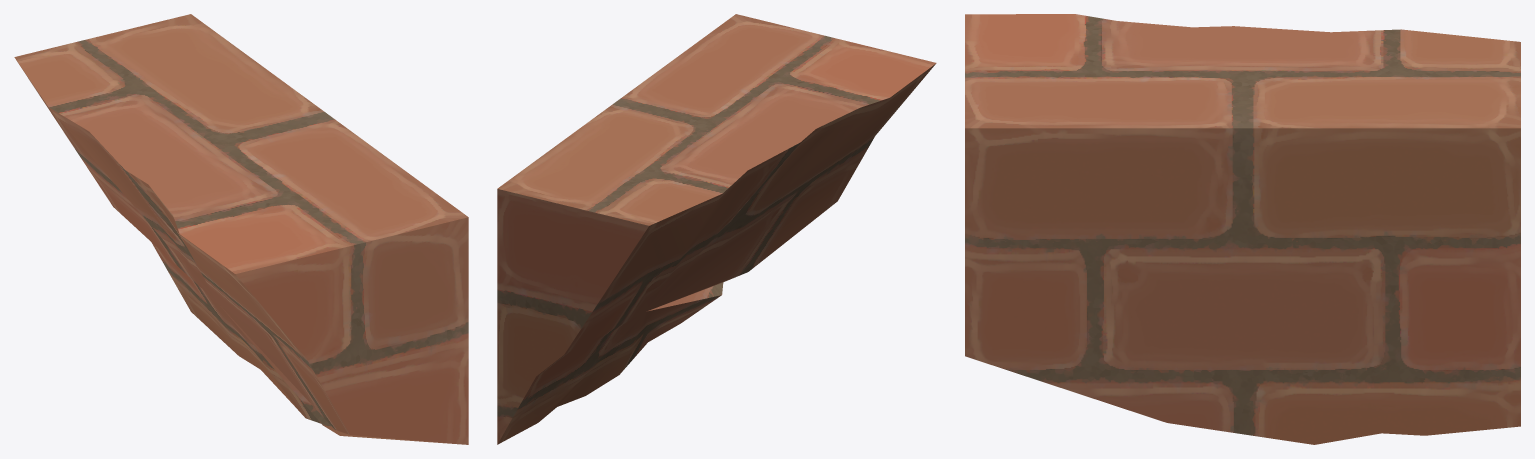
File: gib6.fbx
3 renders of one model, left to right at view 1: azimuth 30°, elevation 25°; view 2: azimuth 150°, elevation 25°; view 3: azimuth 270°, elevation 25°, orthographic. The views are drawn at different scales.
Parts seen in each view (by area): view 1: gib6; view 2: gib6; view 3: gib6.
Part boxes in pixels (x1,y1,x2,y2): gib6: (14, 14, 468, 444); gib6: (497, 14, 936, 444); gib6: (965, 14, 1520, 444).
Bounding box in the file's own units: 15.57 × 20.11 × 32.
Materials: 1 (1 with a texture image).
